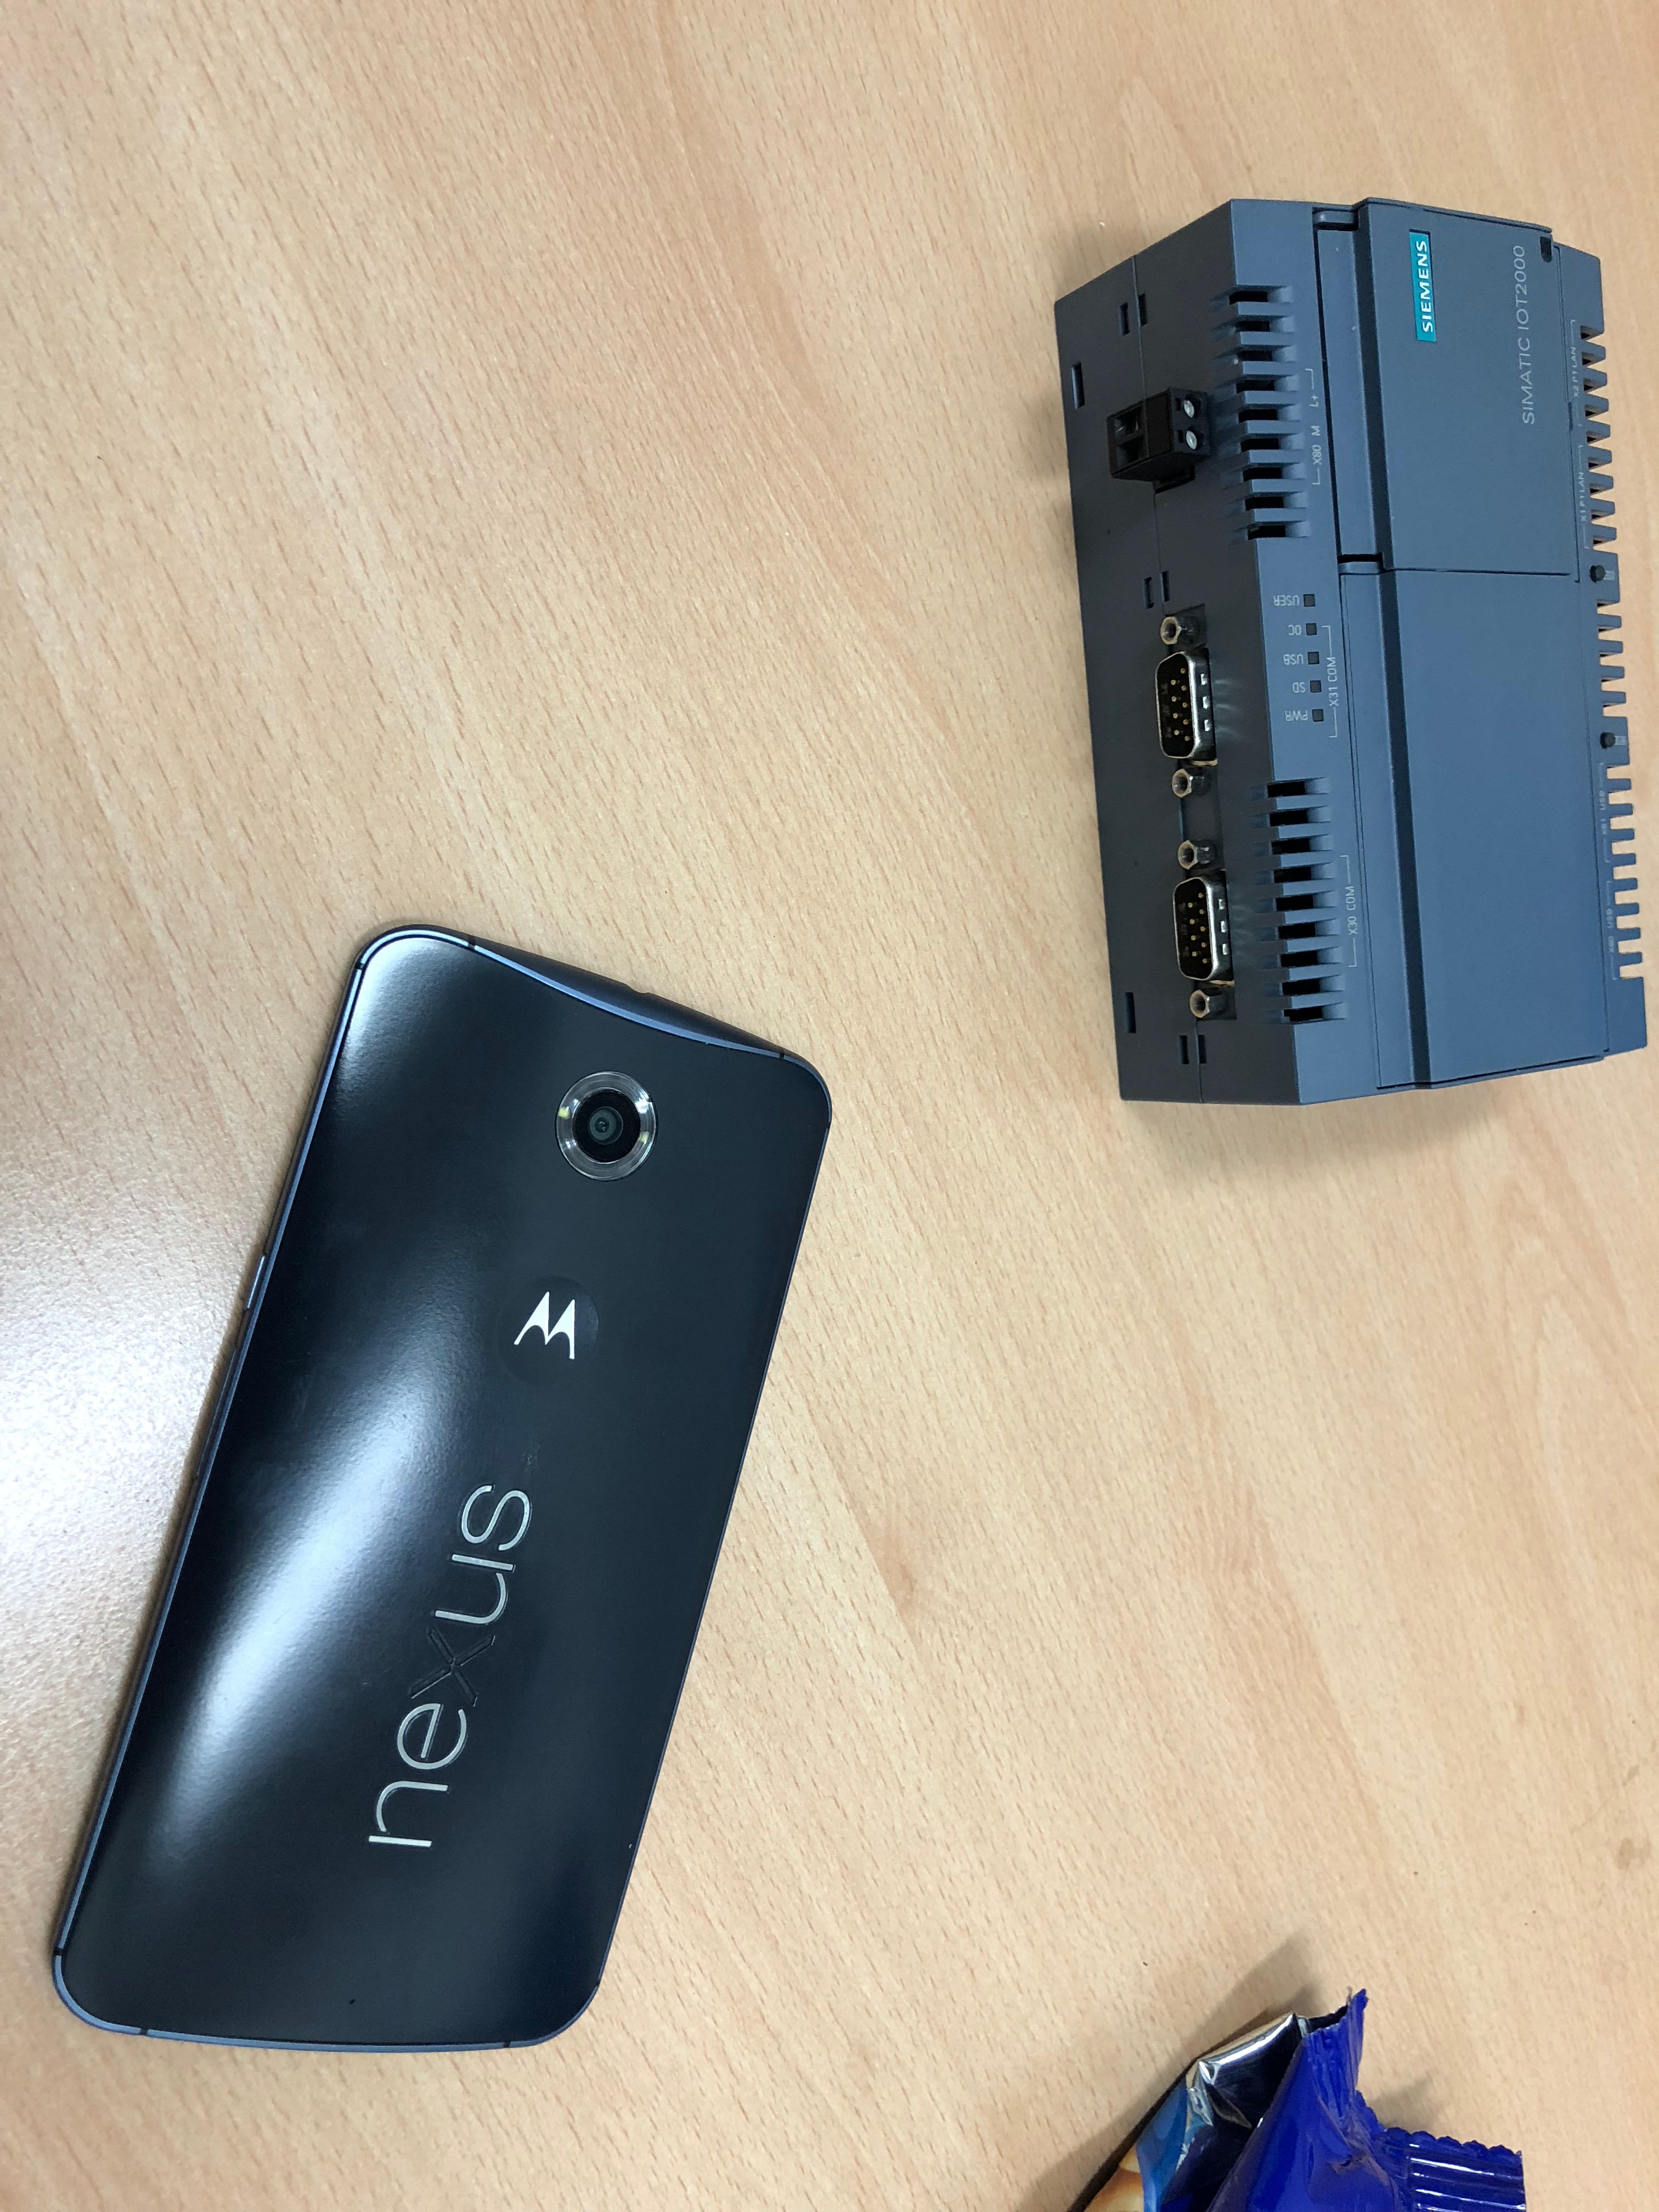device: (1053, 197, 1649, 1108)
